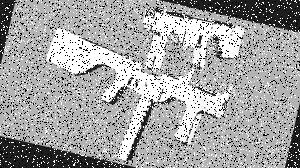SMG: (19, 22, 238, 168), (130, 0, 249, 79)
